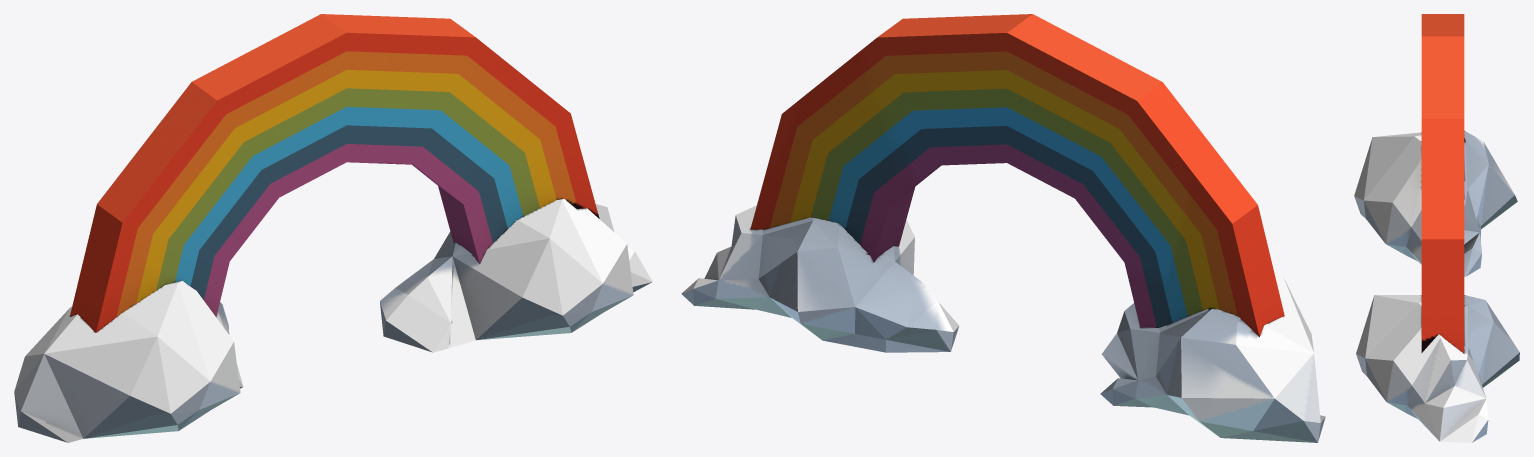
Rendered from Rainbow (1).glb.
3 renders of one model, left to right at view 1: azimuth 30°, elevation 25°; view 2: azimuth 150°, elevation 25°; view 3: azimuth 270°, elevation 25°, orthographic. The views are drawn at different scales.
Parts seen in each view (by area): view 1: rainbow; view 2: rainbow; view 3: rainbow.
Part boxes in pixels (x1,y1,x2,y2): rainbow: [14, 14, 652, 442]; rainbow: [681, 14, 1325, 442]; rainbow: [1354, 14, 1519, 442].
Bounding box in the file's own units: 2.44 × 1.25 × 0.6756.
1 material, 1 textured.
